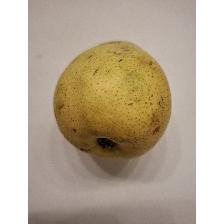Birne: (51, 40, 174, 162)
